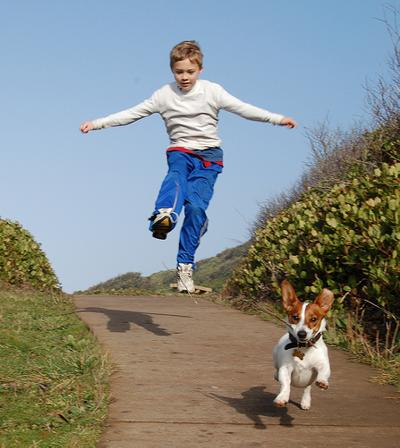person: (81, 38, 299, 294)
